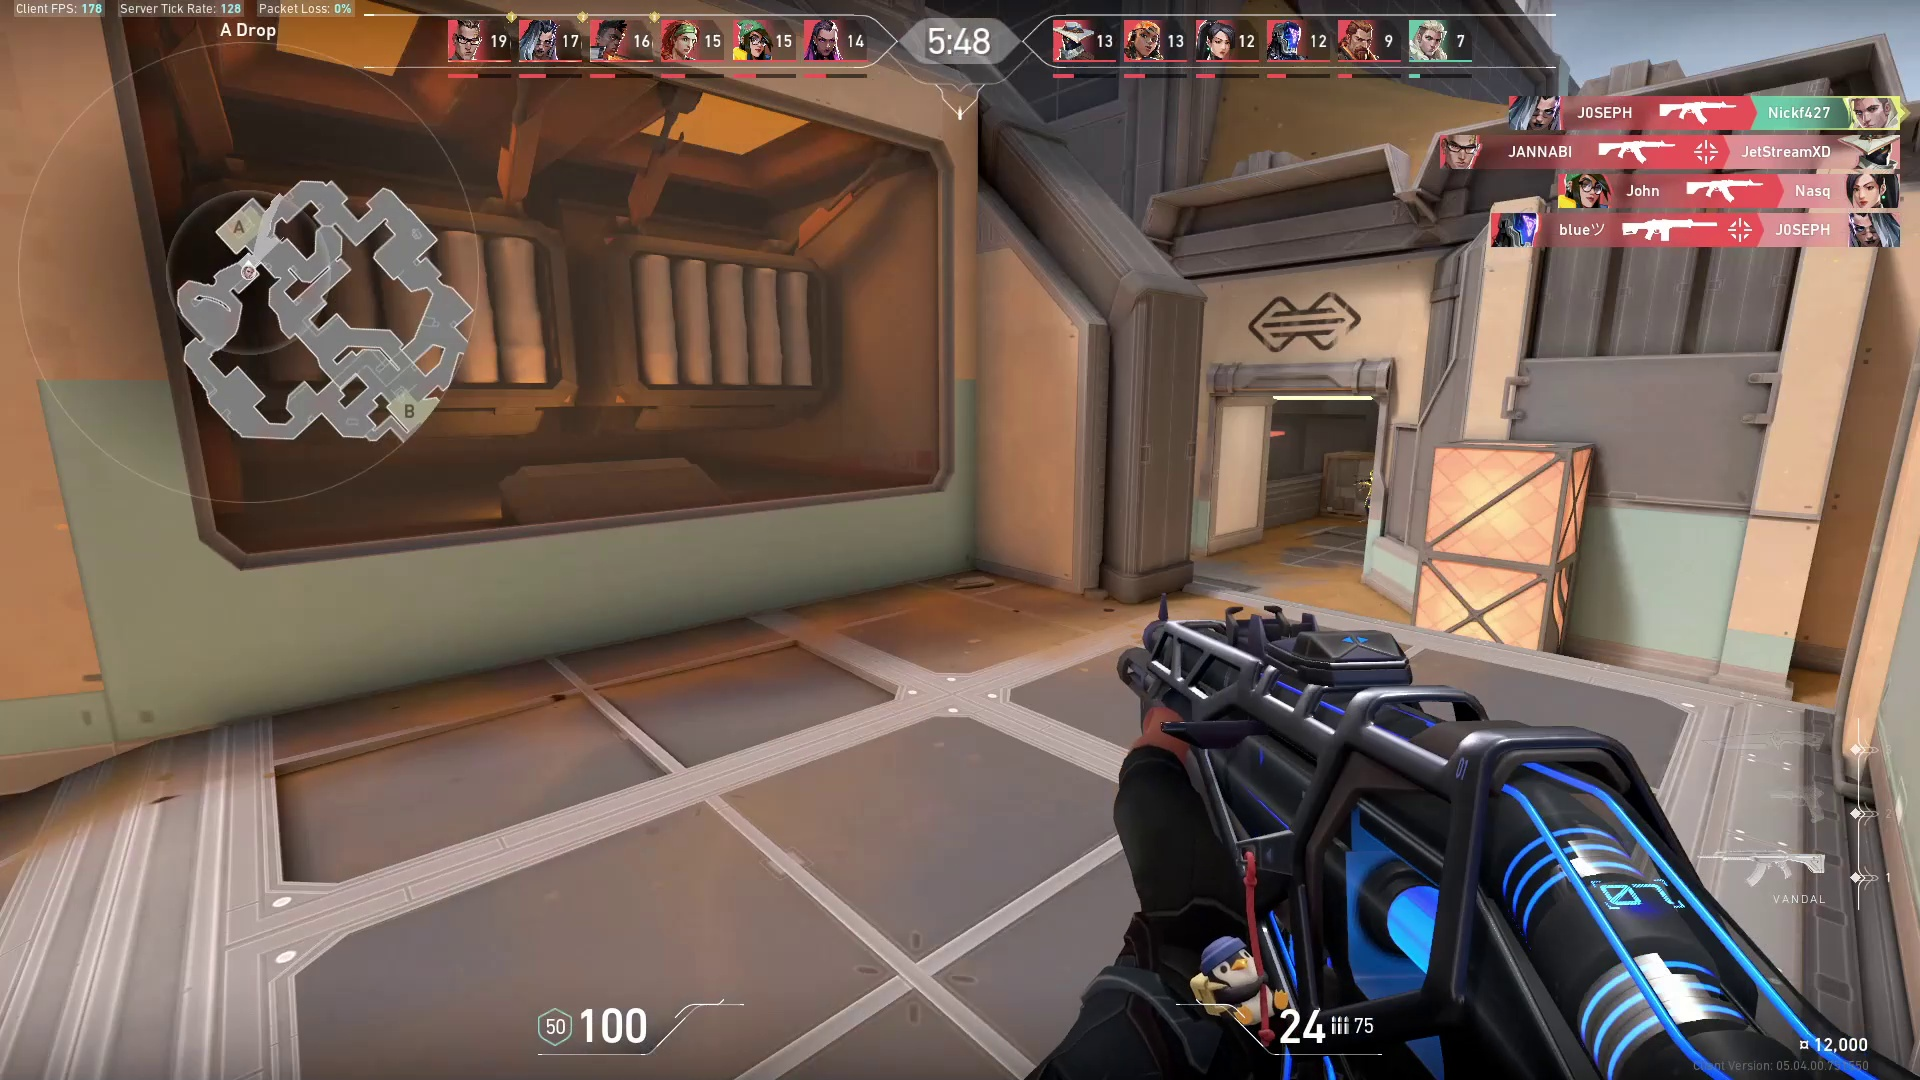enemy_body: (1353, 476, 1371, 524)
enemy_head: (1367, 468, 1374, 479)
